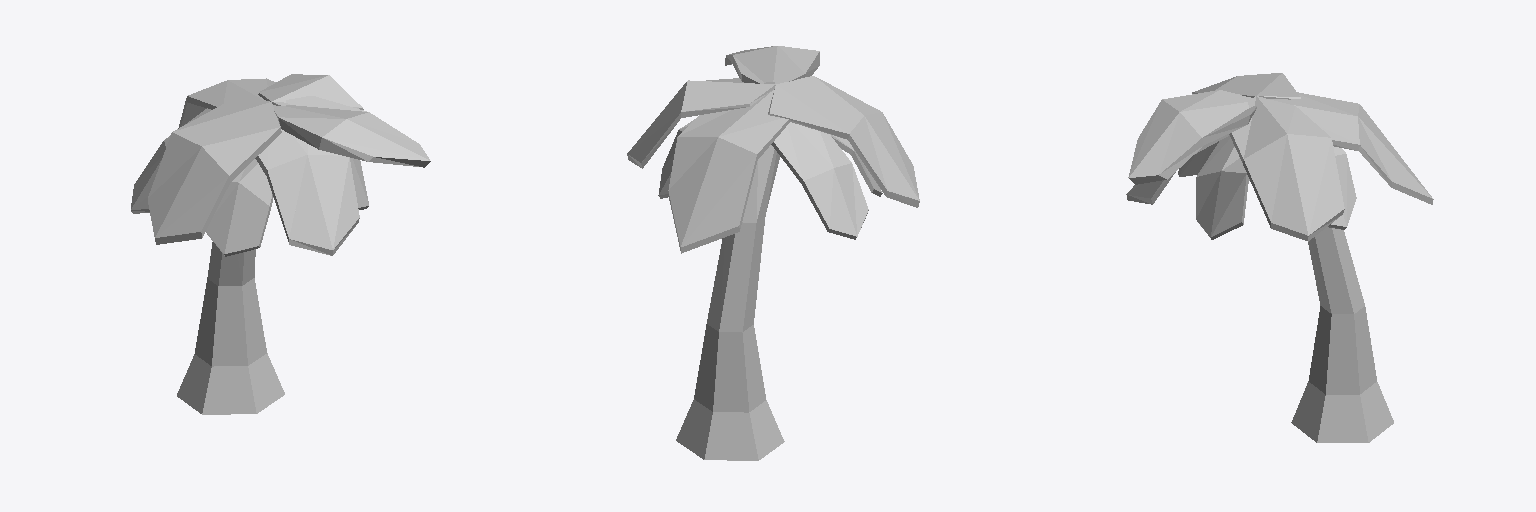
Rendered from mountain.obj.
3 views of the same model, side by side, from view 1: azimuth 30°, elevation 25°; view 2: azimuth 150°, elevation 25°; view 3: azimuth 270°, elevation 25° (orthographic).
Parts seen in each view (by area): view 1: palm_tree_Cube.001_Cube.001; view 2: palm_tree_Cube.001_Cube.001; view 3: palm_tree_Cube.001_Cube.001.
Part boxes in pixels (left/top/right/bottom): palm_tree_Cube.001_Cube.001: left=131, top=74, right=430, bottom=414; palm_tree_Cube.001_Cube.001: left=627, top=46, right=919, bottom=460; palm_tree_Cube.001_Cube.001: left=1126, top=73, right=1433, bottom=442.
Size of the model in its own units: 0.0418 by 0.0518 by 0.044.